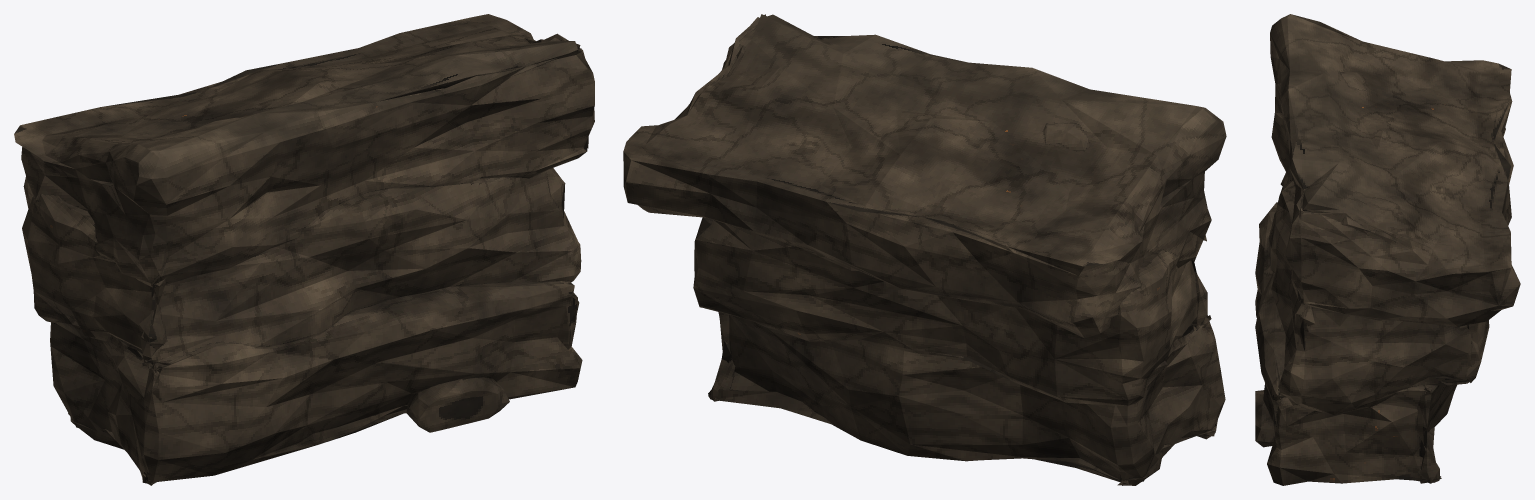
File: mine_cliff_c.glb
The picture shows the model from 3 angles, left to right: view 1: azimuth 30°, elevation 25°; view 2: azimuth 150°, elevation 25°; view 3: azimuth 270°, elevation 25°; orthographic projection. The views are drawn at different scales.
Parts seen in each view (by area): view 1: mine_cliff_c; view 2: mine_cliff_c; view 3: mine_cliff_c.
Part boxes in pixels (x1,y1,x2,y2): mine_cliff_c: (14,14,594,485); mine_cliff_c: (623,14,1226,485); mine_cliff_c: (1255,14,1520,485).
Bounding box in the file's own units: 3.6 × 2.25 × 1.86.
Materials: 1 (1 with a texture image).
